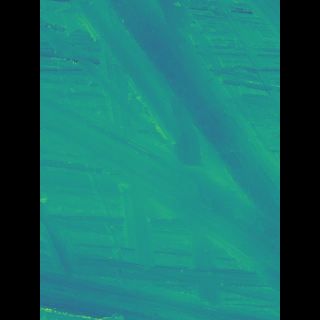Loch: (96, 0, 250, 292), (69, 16, 177, 161)
